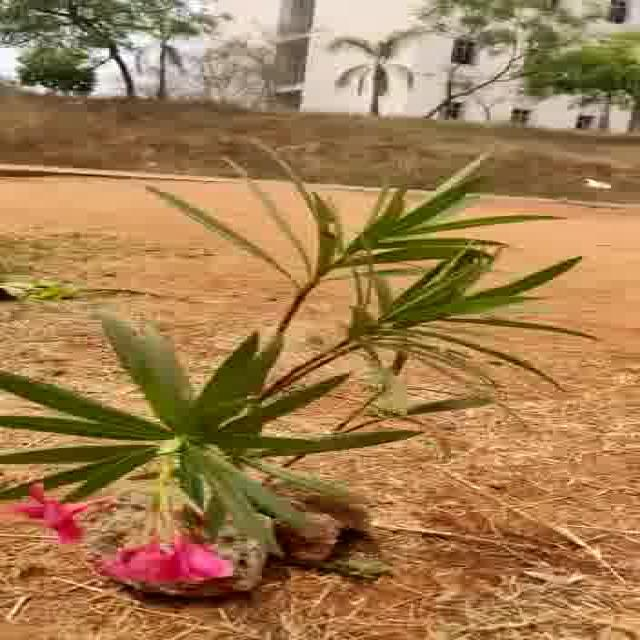Oleander: (1, 145, 603, 537)
